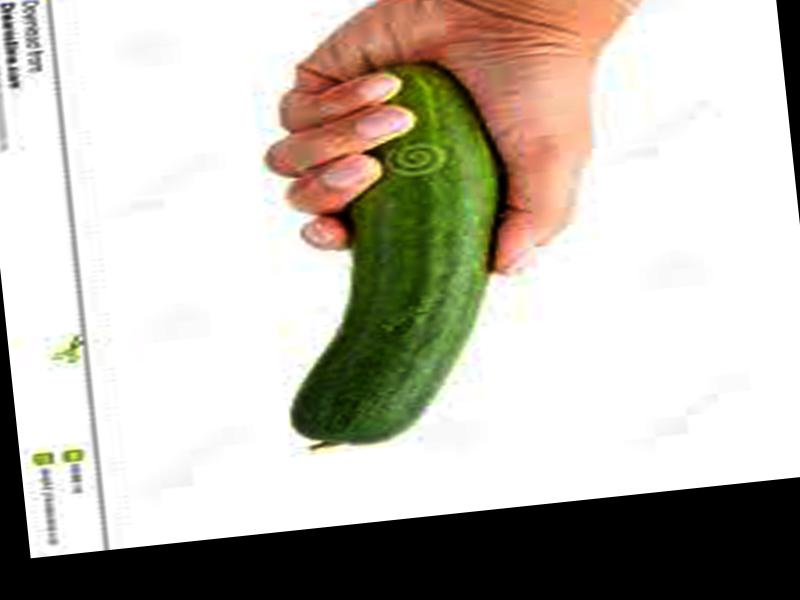Cucumber: (254, 56, 521, 454)
